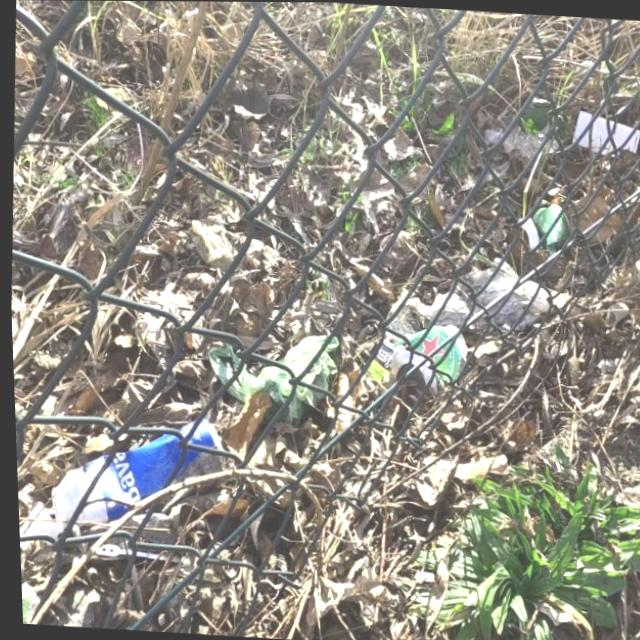Can-Metal: (44, 408, 228, 542), (384, 320, 468, 401), (505, 200, 571, 258)
Plastic: (360, 336, 399, 385)
